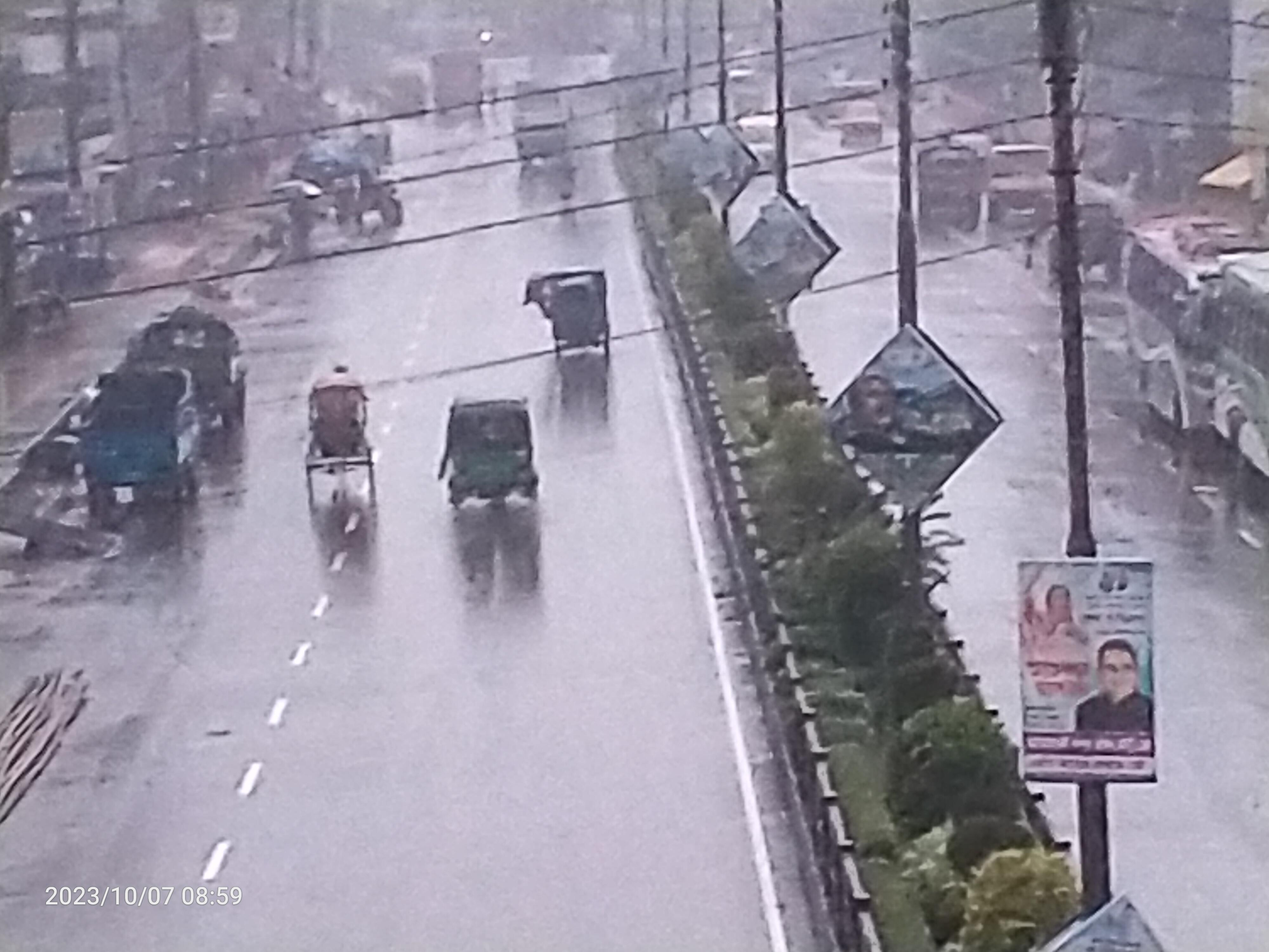Bus: (1088, 182, 1248, 473), (1192, 219, 1269, 507)
Car: (272, 353, 394, 547)
Truck: (50, 349, 230, 535), (115, 294, 257, 480)
